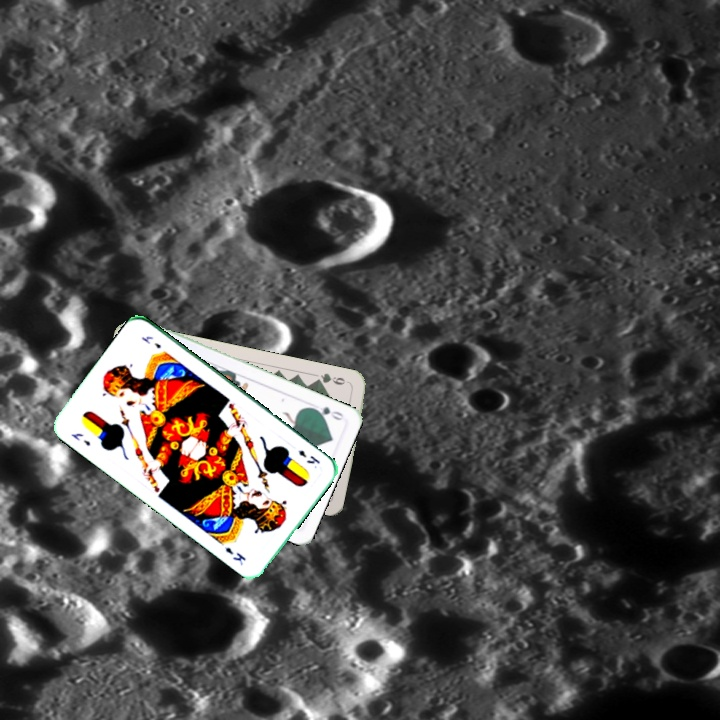EK: (294, 446, 323, 466), (67, 429, 93, 449)
G9: (312, 369, 353, 388)
GO: (307, 401, 346, 423)
